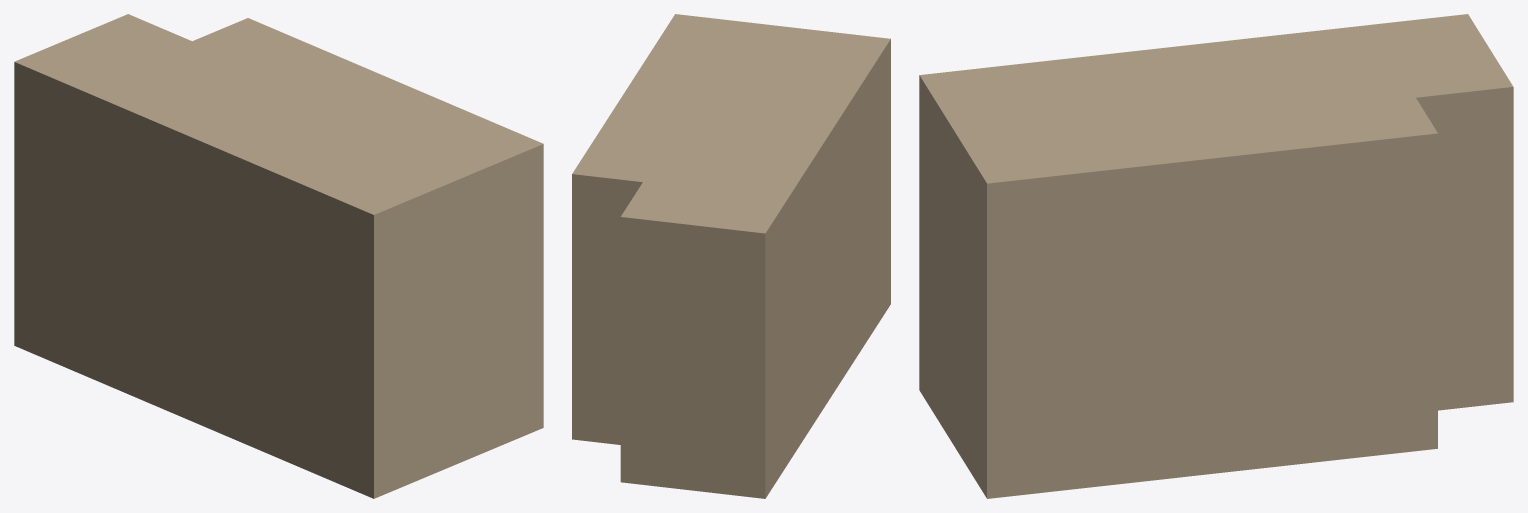
Rendered from bld_106455981.dae.
3 views of the same model, side by side, from view 1: azimuth 30°, elevation 25°; view 2: azimuth 150°, elevation 25°; view 3: azimuth 270°, elevation 25° (orthographic). The views are drawn at different scales.
Parts seen in each view (by area): view 1: bld_106455981; view 2: bld_106455981; view 3: bld_106455981.
Part boxes in pixels (x1=…): bld_106455981: x1=14, y1=14, x2=543, y2=498; bld_106455981: x1=572, y1=14, x2=890, y2=498; bld_106455981: x1=919, y1=14, x2=1513, y2=498.
Size of the model in its own units: 9.23 by 13.66 by 8.
